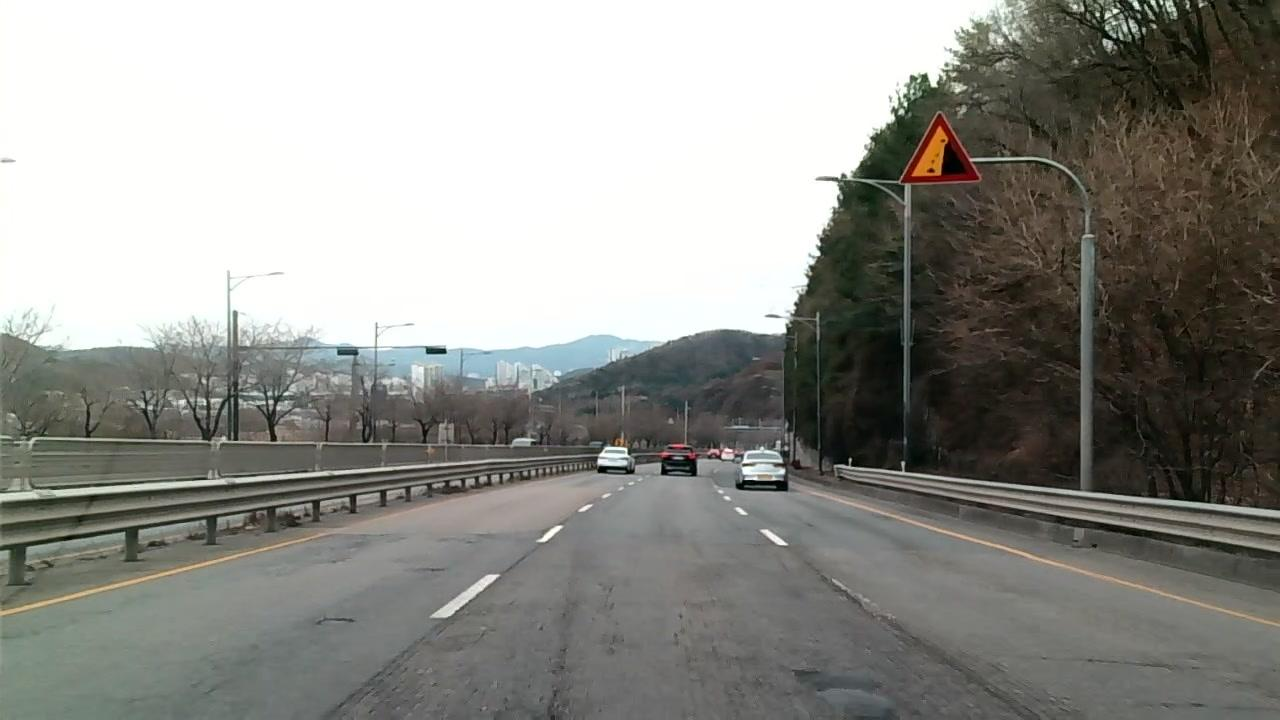erosion: (535, 585, 592, 720), (1129, 693, 1235, 717)
hcrack: (1037, 649, 1219, 678)
pothole: (309, 612, 359, 630)
vcrack: (801, 557, 1045, 719)
